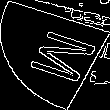M_SE: (12, 24, 98, 86)
